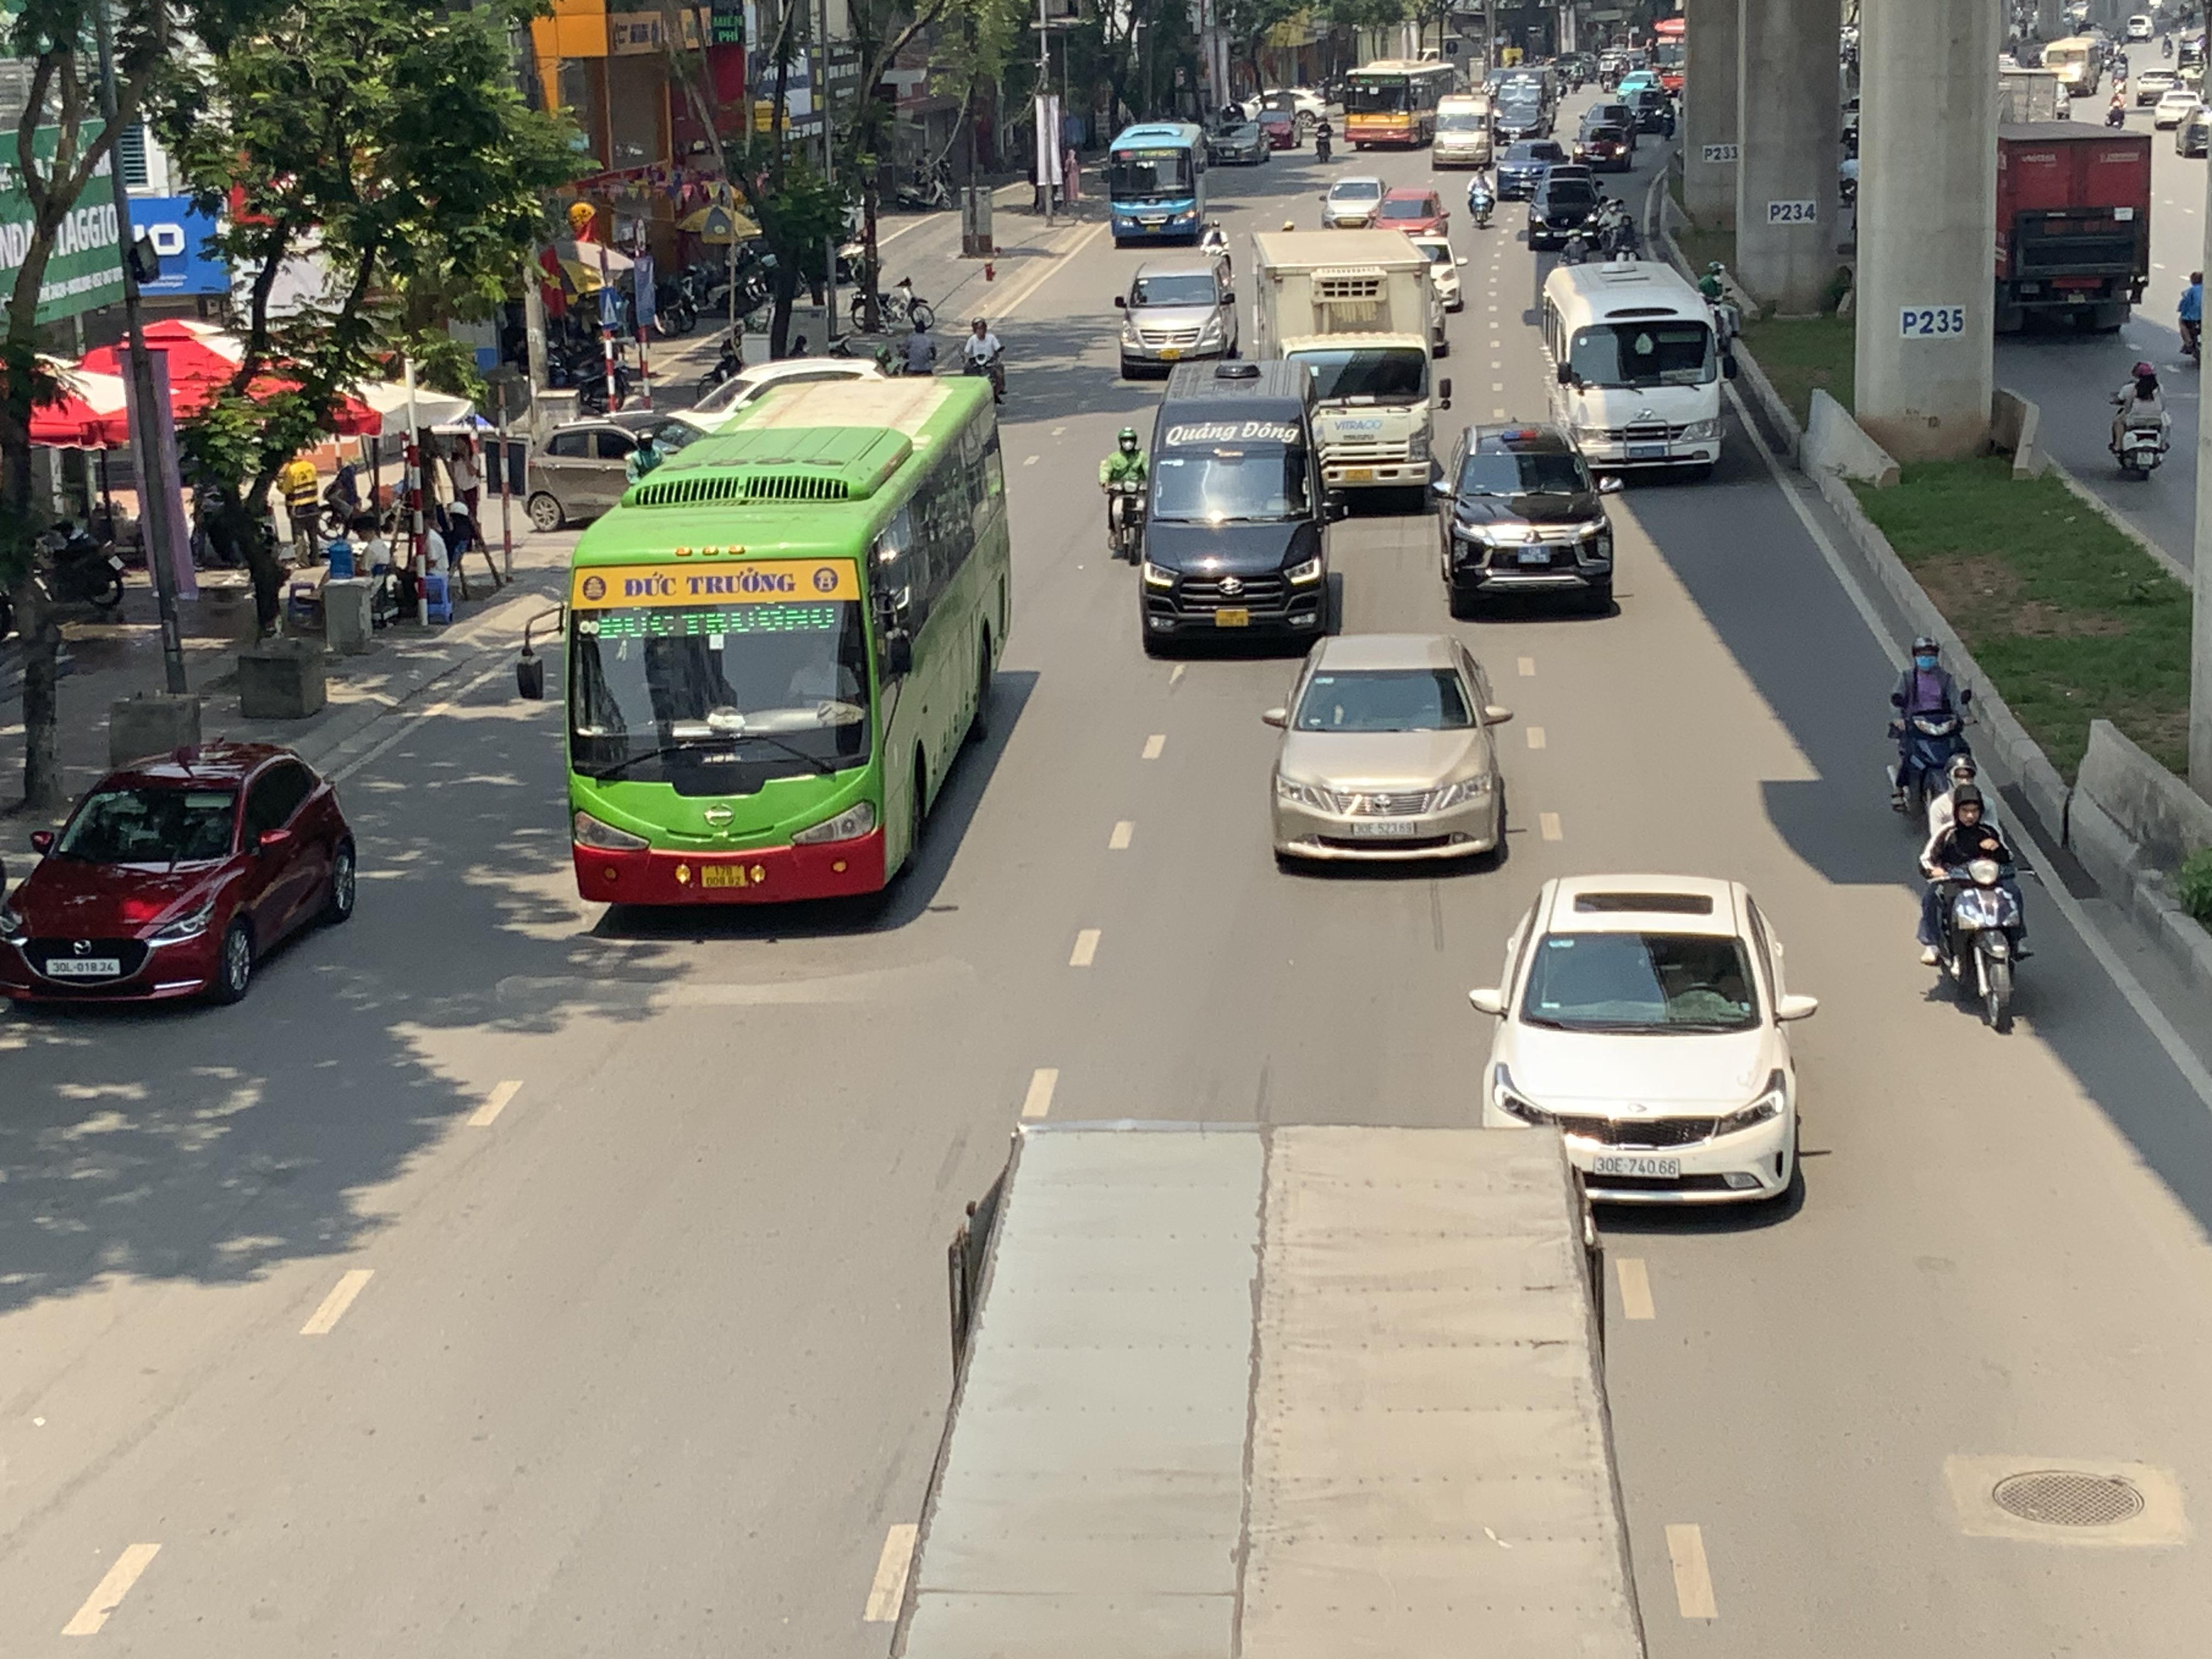BSD: (1590, 1152, 1681, 1178), (47, 958, 118, 976), (1353, 821, 1414, 836)
BSV: (1214, 608, 1249, 627)
bus: (550, 362, 1015, 908), (1134, 359, 1348, 657), (1529, 258, 1730, 481), (1106, 120, 1207, 244), (1343, 59, 1446, 150), (1430, 92, 1493, 167), (2040, 33, 2102, 96)
car: (1467, 871, 1820, 1213), (2, 737, 359, 1009), (1259, 631, 1517, 875), (1426, 422, 1618, 617), (1115, 261, 1238, 378), (1526, 169, 1602, 249), (1496, 136, 1568, 197), (1372, 185, 1453, 237), (1411, 235, 1465, 308), (1322, 176, 1390, 227), (1207, 122, 1271, 167), (1573, 125, 1634, 171), (1494, 105, 1552, 146), (2153, 87, 2203, 129), (2175, 105, 2212, 160), (1252, 108, 1303, 148)
motorbike: (1918, 782, 2031, 1033), (1885, 636, 1975, 833), (31, 504, 129, 619), (2109, 356, 2172, 481), (1099, 429, 1150, 561), (960, 315, 1007, 403), (2175, 270, 2210, 366), (1467, 166, 1496, 228), (2104, 85, 2128, 129)
truck: (1249, 228, 1453, 507), (1993, 124, 2156, 336)
